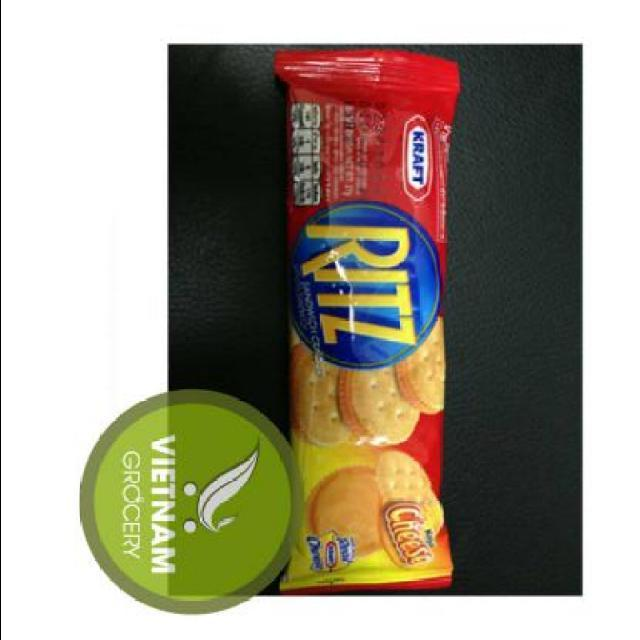Ritz cracker: (266, 59, 462, 598)
